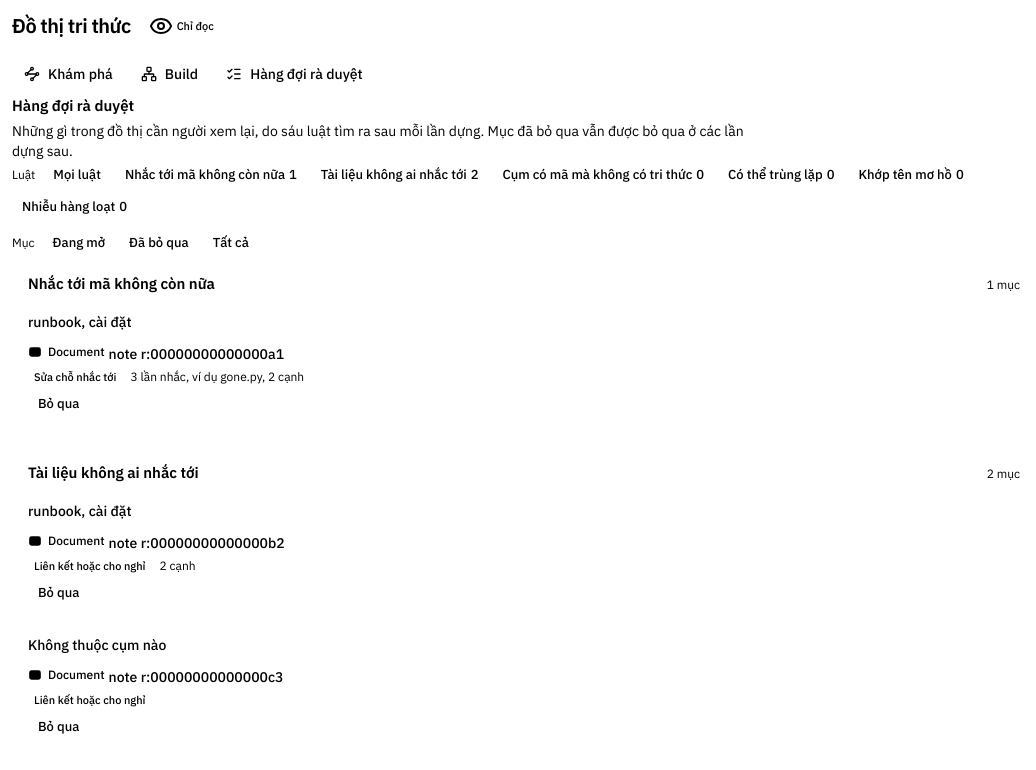
KgReviewPage › shows a refusal of the hub in the form
Click the button with test id "kg-review-dismiss". click: (59, 404)
box: [28,390,89,418]
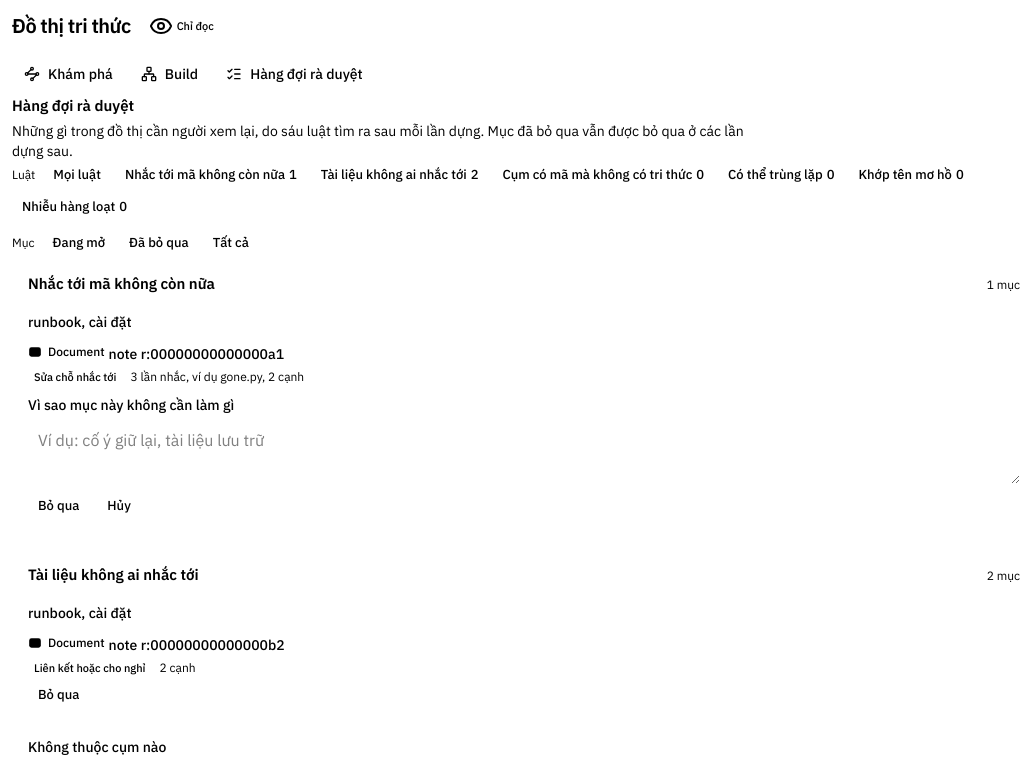
Type "nothing to do" into the text box with test id "kg-review-reason". click: (524, 452)
box: [28,420,1020,484]
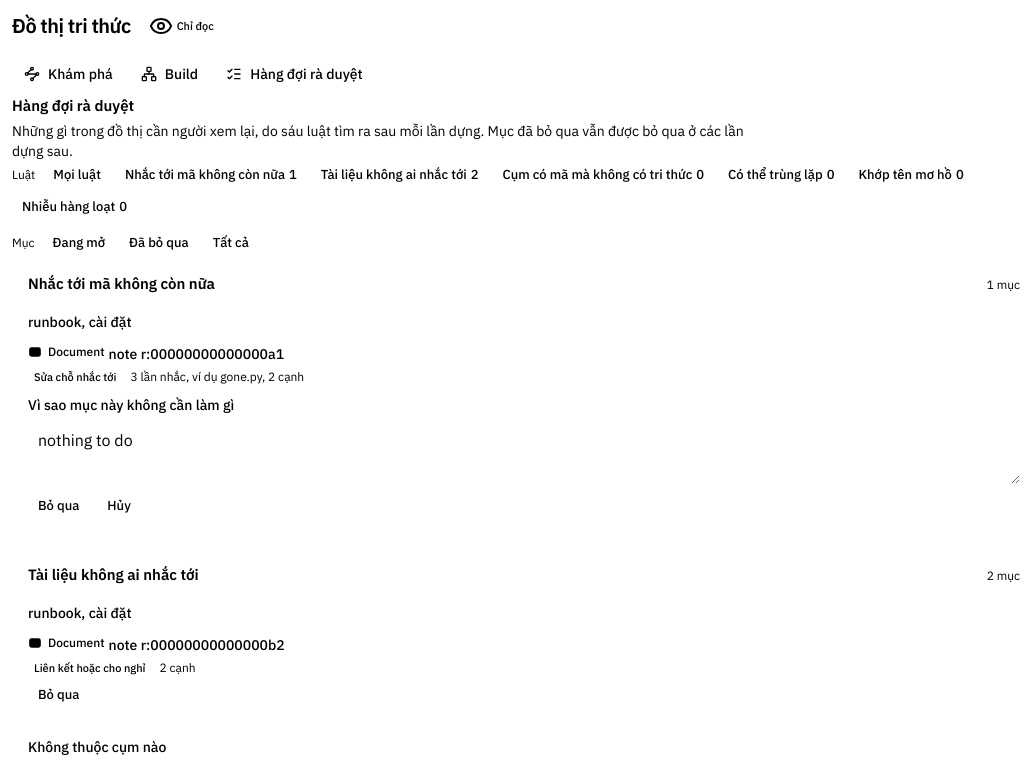
Click the button with test id "kg-review-dismiss-save". click: (59, 506)
box: [28,492,89,520]
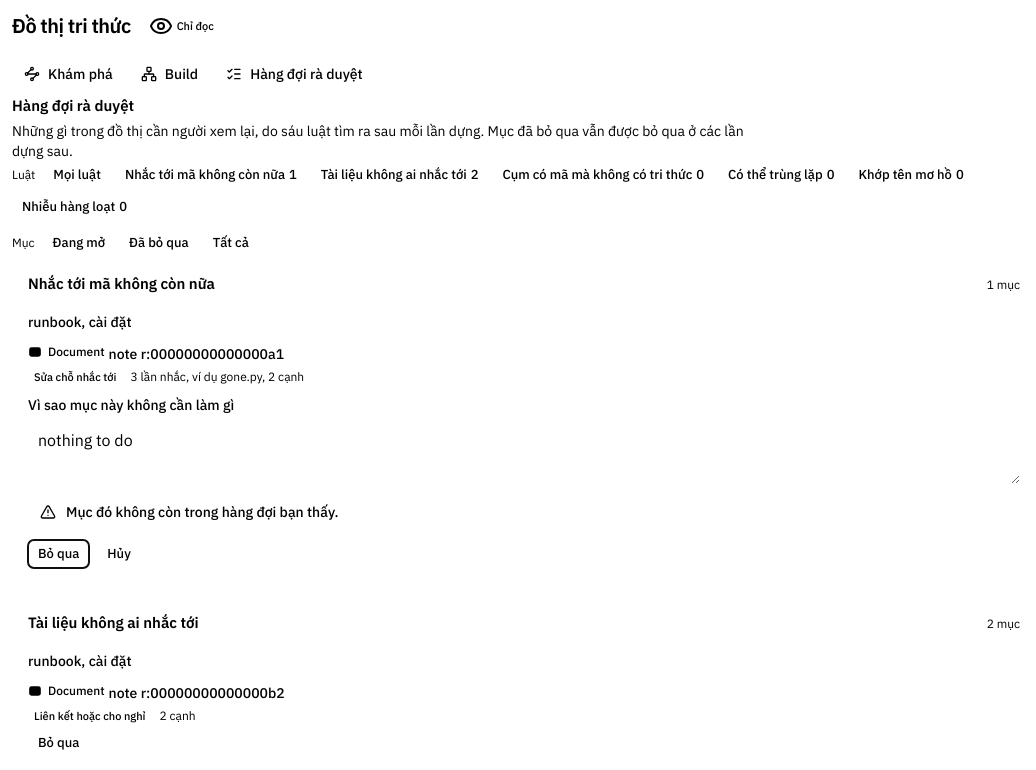
Check: the text "Mục đó không còn trong hàng đợi bạn thấy." is shown, box [66,502,338,522]
